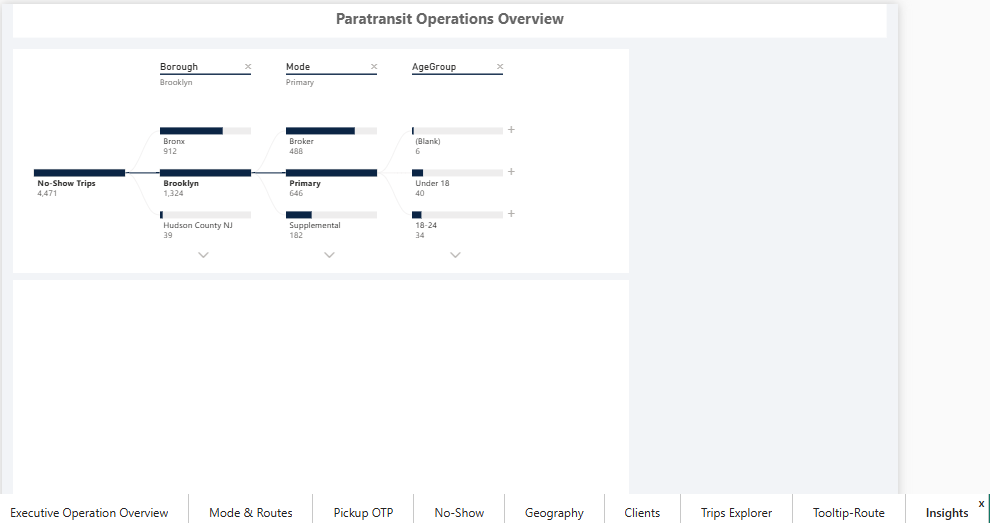

The dashboard page shown, as its layout file describes it:
{"tool":"powerbi","page":{"name":"Insights","canvas":[1280,720],"ordinal":8},"visuals":[{"type":"textbox","box":[16,0,1248,48],"z":0},{"type":"decompositionTreeVisual","fields":{"Analyze":["Trips.No-Show Trips"],"ExplainBy":["Trips.Borough","Trips.Mode","Clients.AgeGroup","Trips.DayOfWeekName","Trips.RouteID"]},"box":[16,64,880,320],"z":7001},{"type":"textbox","box":[16,394,880,320],"z":7002}]}

Visuals, with their boxes on the page's 1280x720 design canvas (x1, y1, x2, y2). These are canvas units, not pixel positions in the 990x523 screenshot, which may show the page scaled, cropped or inside an application window:
textbox: box=[16, 0, 1264, 48]
decompositionTreeVisual - Trips.No-Show Trips x Trips.Borough: box=[16, 64, 896, 384]
textbox: box=[16, 394, 896, 714]
